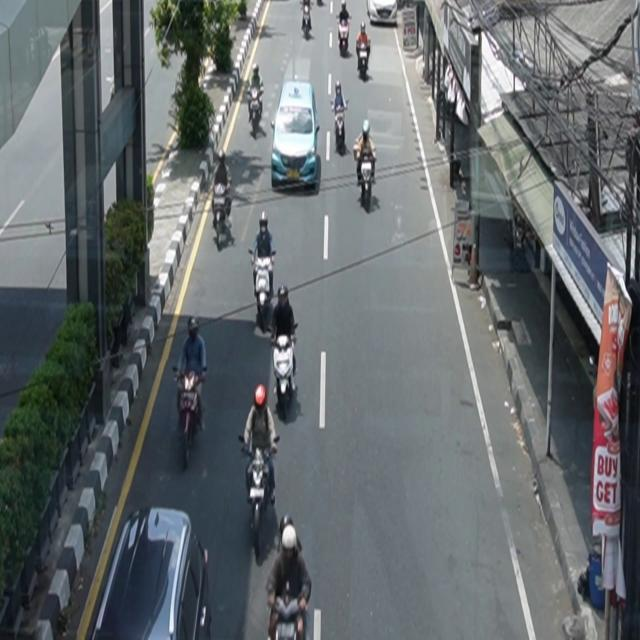car: (84, 507, 213, 640), (271, 79, 321, 190)
